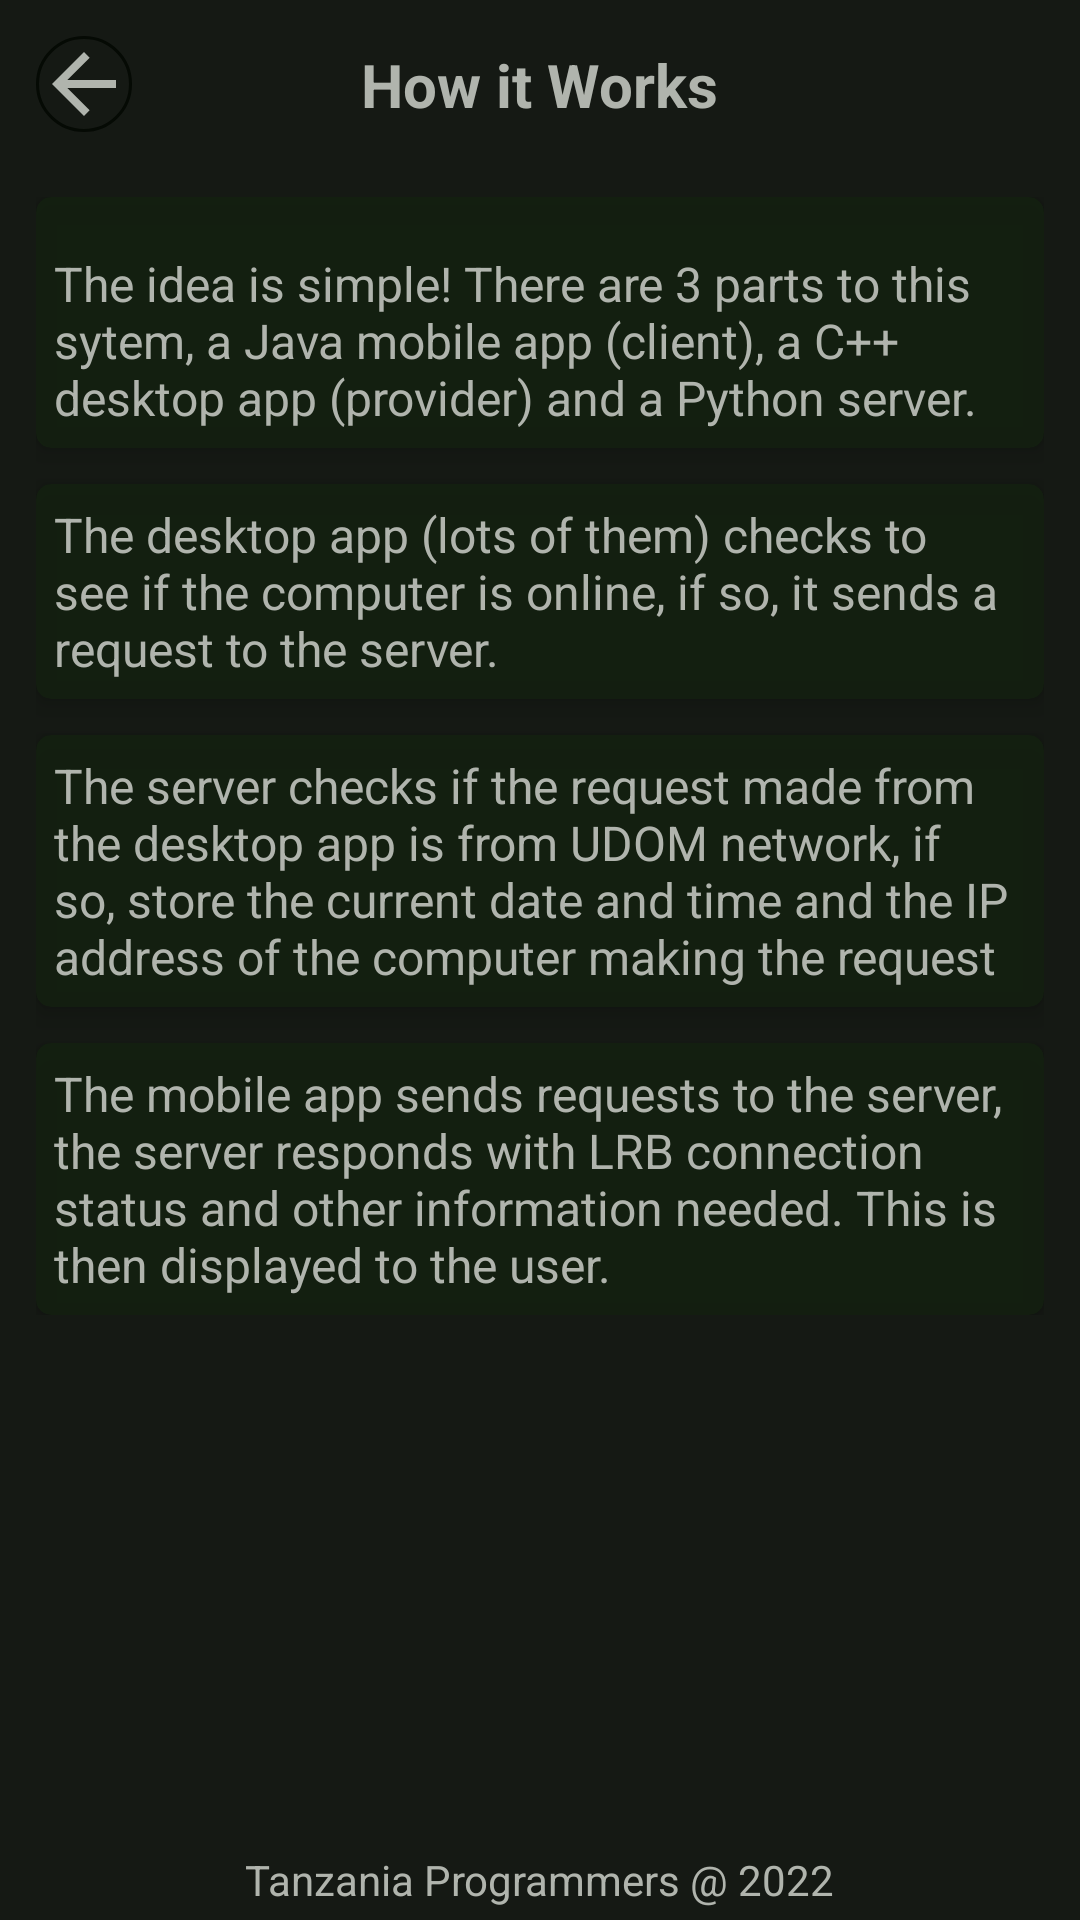

Point at icon controls on the screen. Image size 1080 x 1920, points as [x,y].
back: [84,84]
